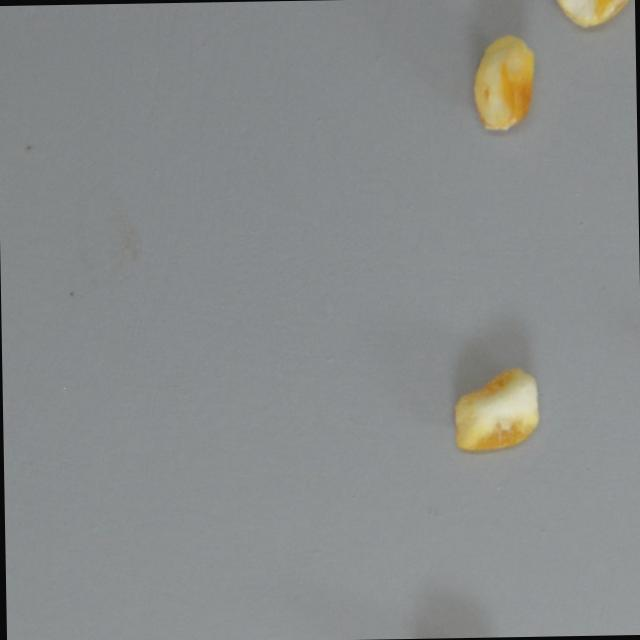pelicula: (451, 365, 540, 452), (470, 33, 534, 131)
